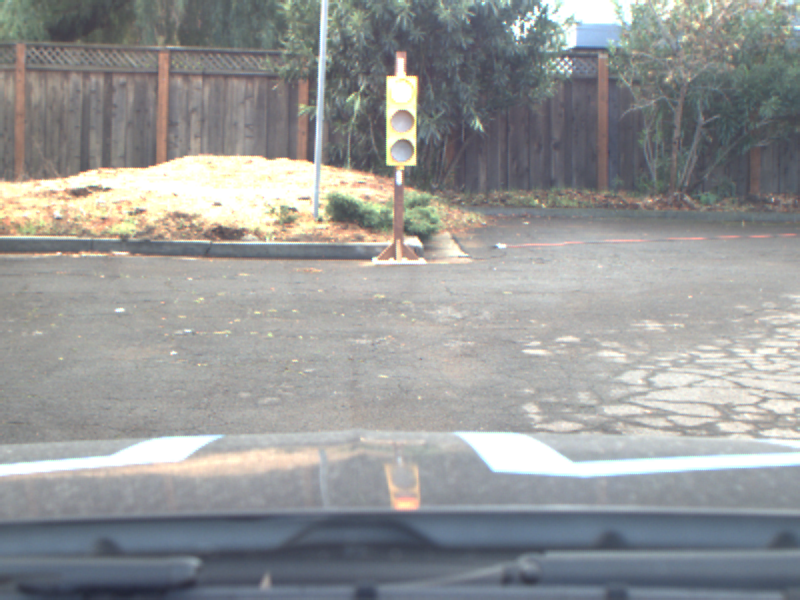Red: (385, 76, 417, 166)
